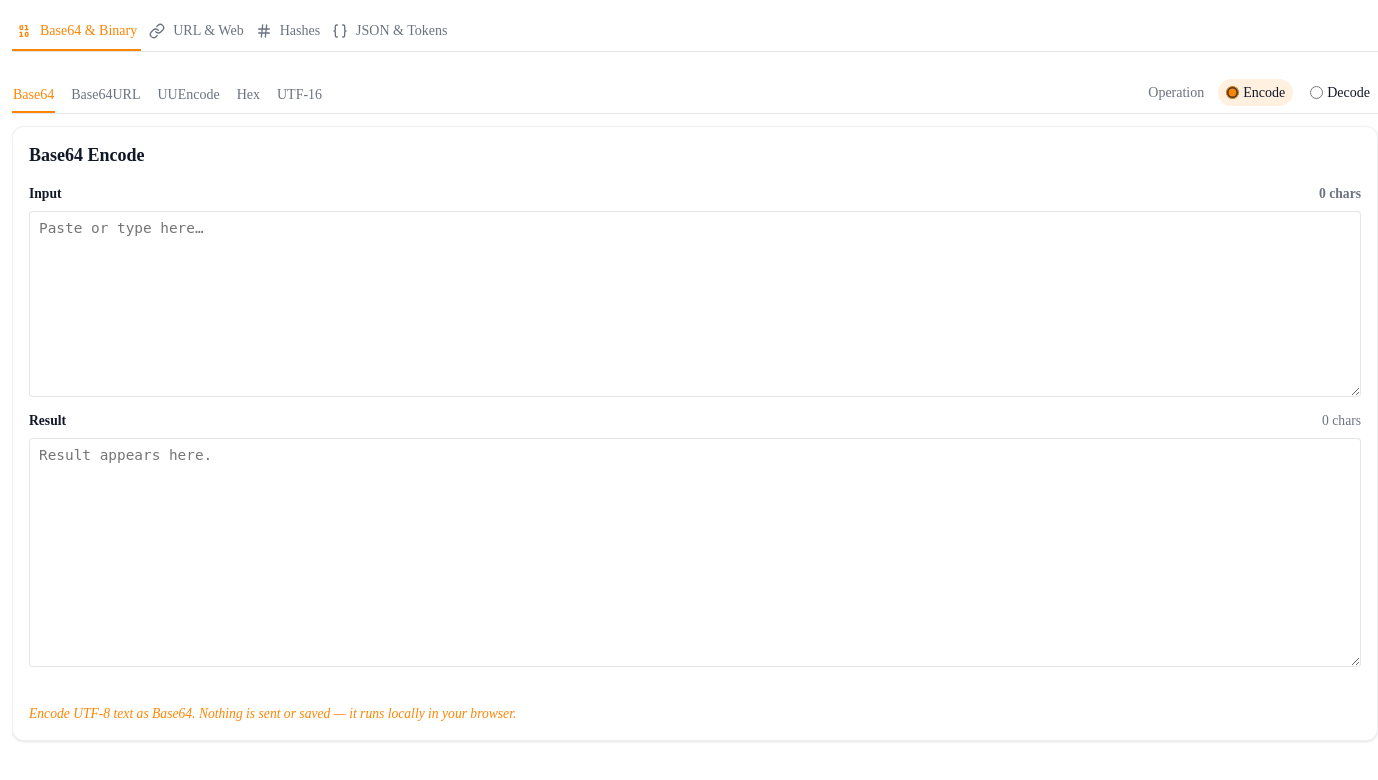
Test case: clipboard and mail-test behavior › announces clipboard feedback (rejected: true)
The image size is (1378, 780).
Step 1. Type "Robin" into the text box named "Base64 Encode input" → (695,304), box [29,211,1361,397]
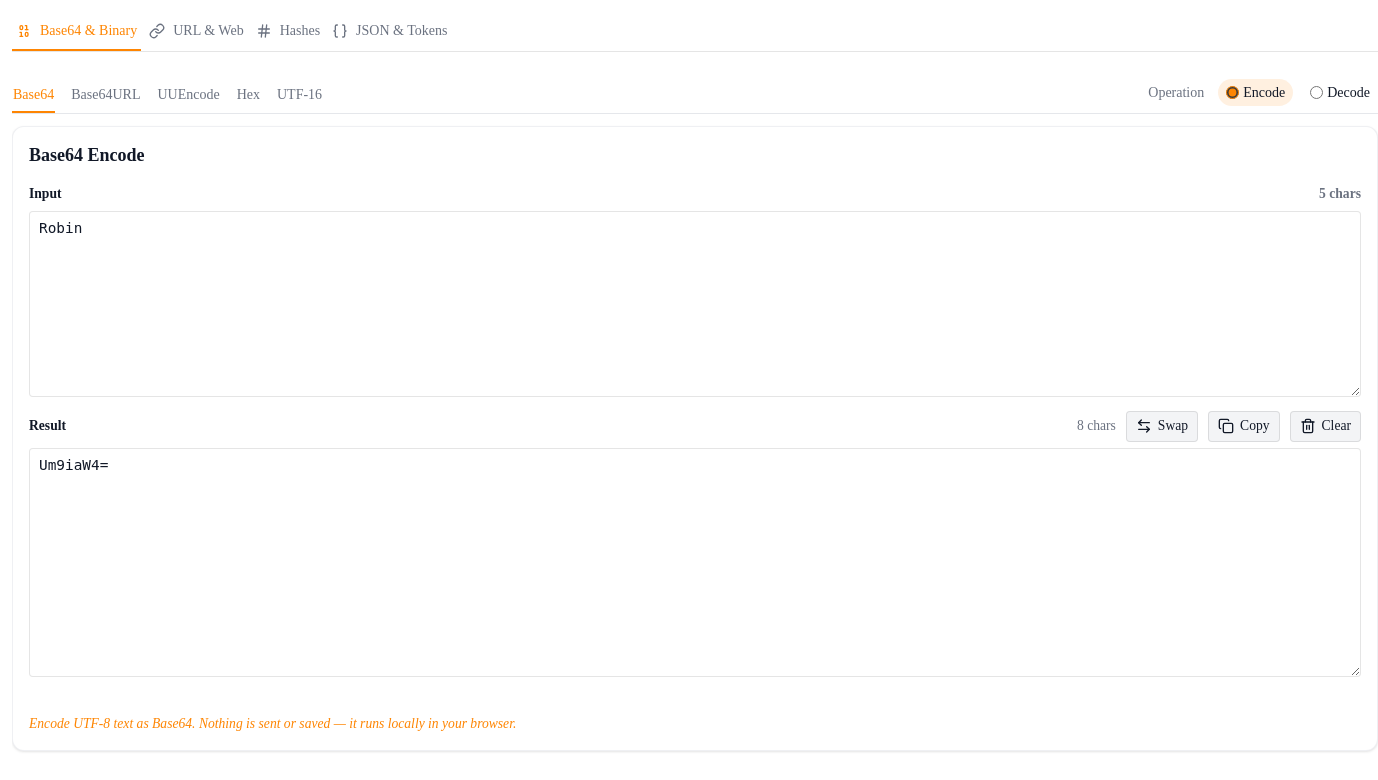
Step 2. Click the button "Copy" → (1244,426), box [1208,411,1280,442]
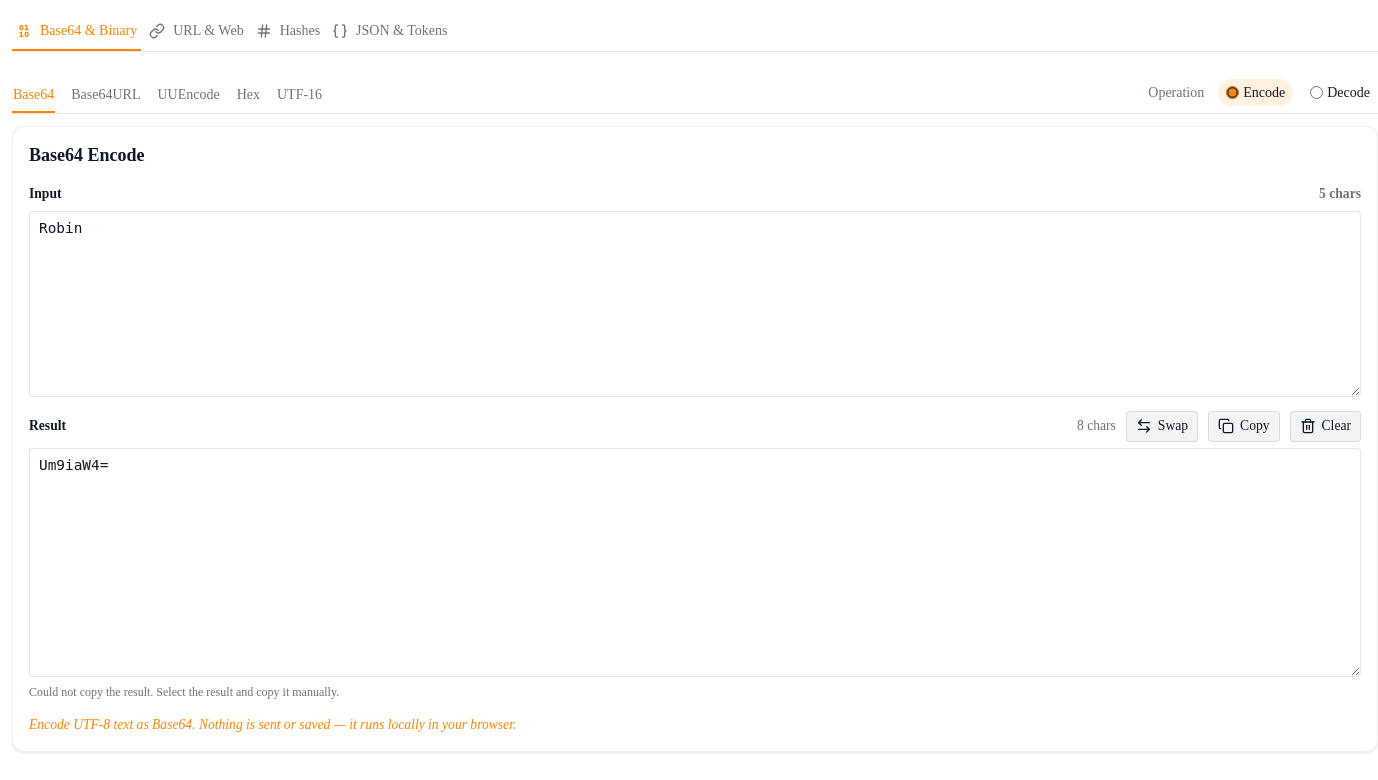
Now the text "Could not copy the result. Select the result and copy it manually." is shown, box [29,685,339,699]
